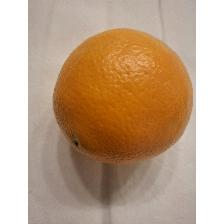Mandarine: (48, 24, 196, 168)
